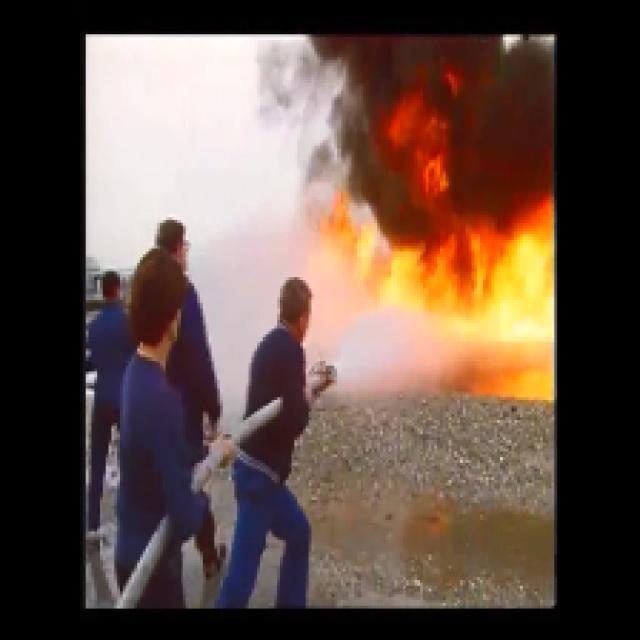Fire: (382, 242, 556, 312)
Smoke: (344, 45, 538, 212)
